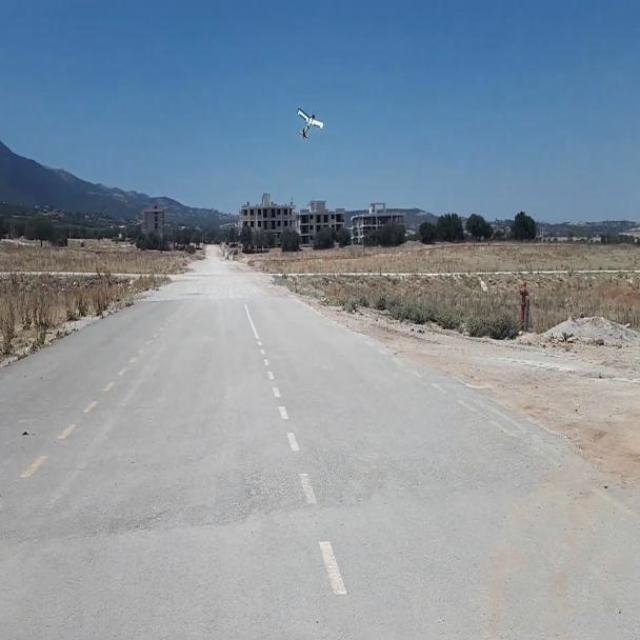iha: (295, 42, 325, 77)
